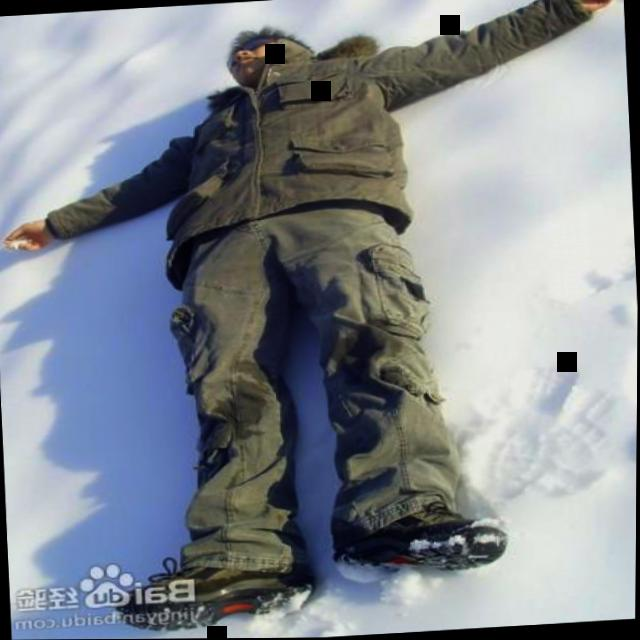Fall-Detected: (0, 0, 623, 635)
